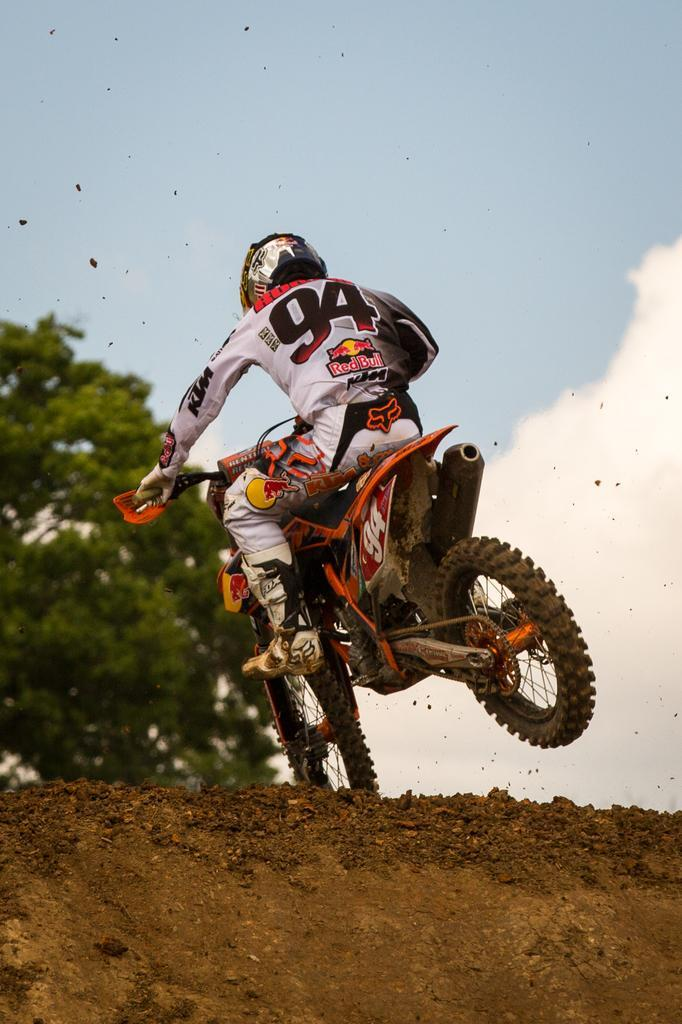helmet: (239, 231, 330, 317)
